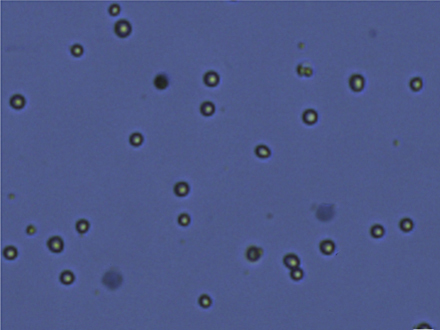A: (281, 250, 304, 270), (111, 19, 133, 39), (300, 105, 321, 125), (46, 234, 66, 254), (200, 69, 220, 89), (171, 178, 191, 198), (346, 72, 365, 92), (316, 237, 335, 257), (8, 92, 27, 111), (198, 99, 216, 118), (368, 222, 387, 239), (74, 214, 90, 234), (106, 1, 124, 18), (253, 143, 271, 160), (1, 243, 17, 262), (288, 265, 305, 282), (68, 41, 85, 57), (127, 130, 144, 146), (59, 268, 75, 285), (196, 292, 213, 308), (405, 74, 422, 90), (397, 215, 413, 232), (177, 211, 191, 228), (24, 222, 38, 238), (303, 66, 314, 78), (295, 64, 305, 77)
D: (100, 267, 125, 291), (313, 200, 338, 222), (243, 242, 265, 265), (150, 72, 171, 91)
